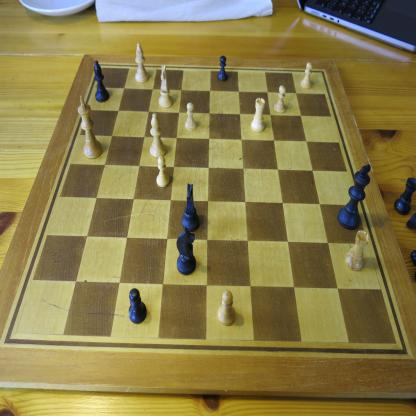black-bishop: (93, 60, 110, 103)
black-king: (337, 163, 371, 231)
black-knight: (176, 226, 196, 276), (181, 182, 199, 232)
black-pawn: (128, 287, 147, 325), (217, 55, 228, 82)
black-rook: (393, 177, 416, 216)
white-bishop: (149, 112, 167, 158), (134, 42, 150, 84)
white-king: (77, 95, 103, 160)
white-knight: (158, 63, 173, 108)
white-pawn: (218, 289, 236, 327), (156, 155, 170, 188), (300, 62, 313, 90), (274, 84, 286, 114), (184, 102, 196, 132)
white-rook: (344, 229, 370, 272), (251, 97, 266, 133)
